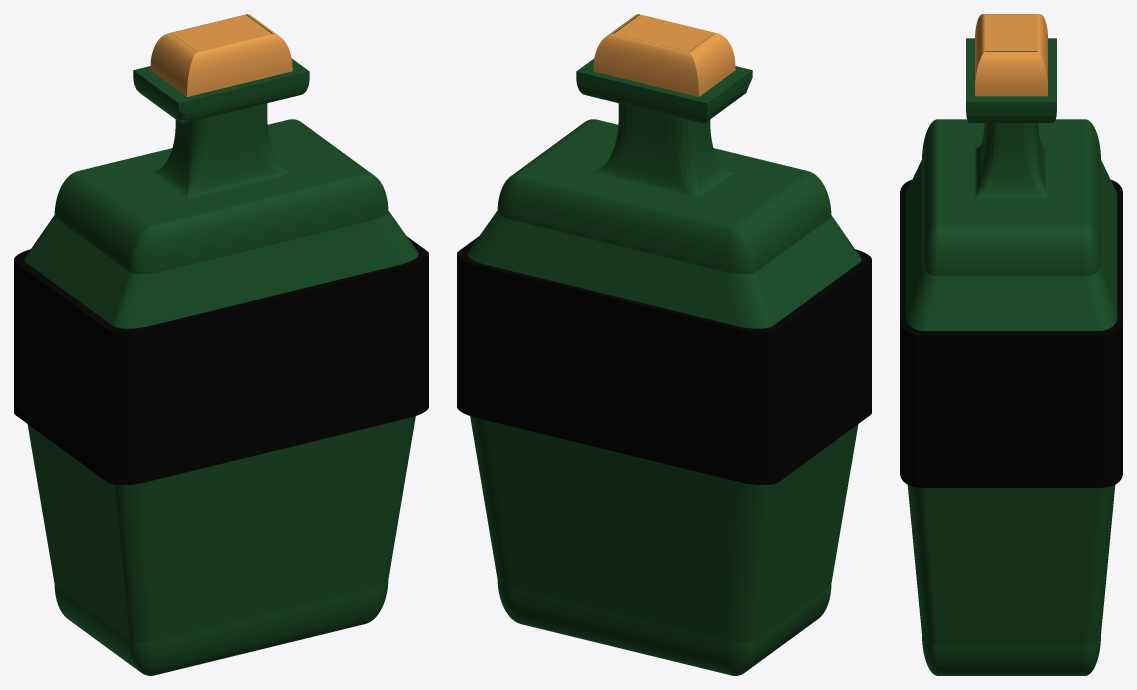
The model's file is Whiskeyflaska.fbx.
3 renders of one model, left to right at view 1: azimuth 30°, elevation 25°; view 2: azimuth 150°, elevation 25°; view 3: azimuth 270°, elevation 25°, orthographic.
Visible parts, largest first — view 1: Cube, Tag, Cork; view 2: Cube, Tag, Cork; view 3: Cube, Tag, Cork.
Boxes of the visible parts, x1=… form: Cube: x1=24, y1=14, x2=418, y2=675; Tag: x1=14, y1=236, x2=428, y2=484; Cork: x1=150, y1=14, x2=292, y2=96; Cube: x1=467, y1=14, x2=861, y2=675; Tag: x1=457, y1=236, x2=871, y2=484; Cork: x1=593, y1=14, x2=735, y2=96; Cube: x1=905, y1=38, x2=1117, y2=675; Tag: x1=900, y1=180, x2=1122, y2=487; Cork: x1=975, y1=14, x2=1047, y2=96.
Size of the model in its own units: 192 by 338 by 116.
